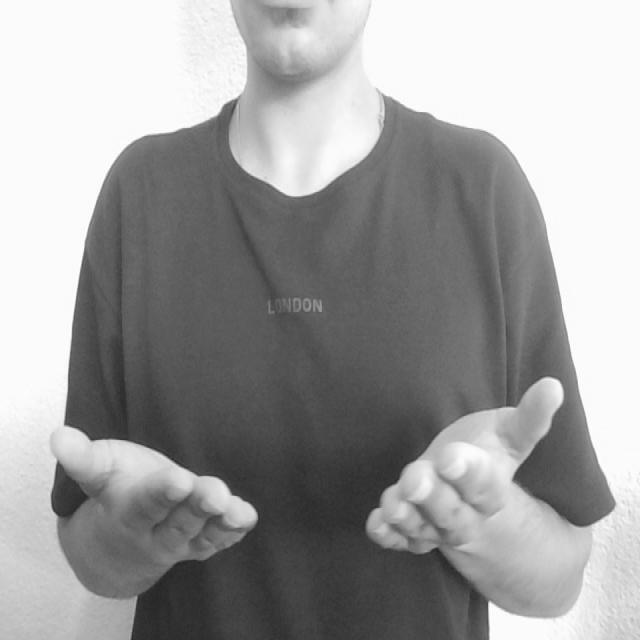Evet: (48, 373, 567, 568)
